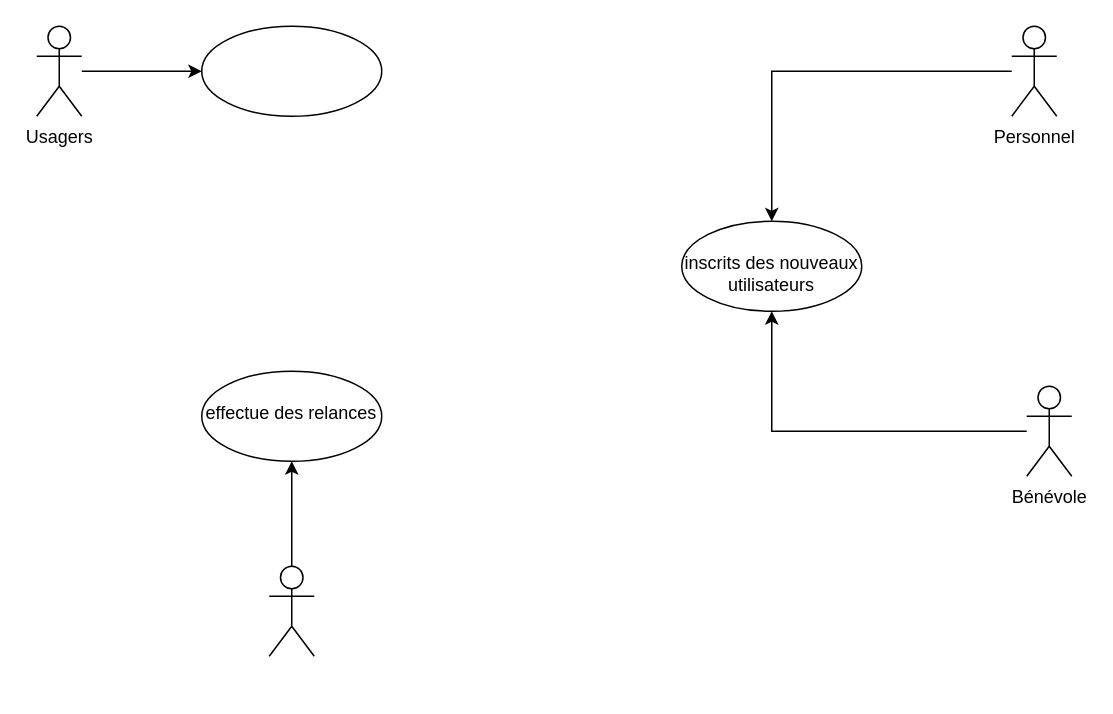
Image size: 1113x714. Some labels were removed from this diagram. The centre of each missing label's shape, as x and y in pixels:
Bibliothécaire: [291,610]
consulte les livres: [291,70]
